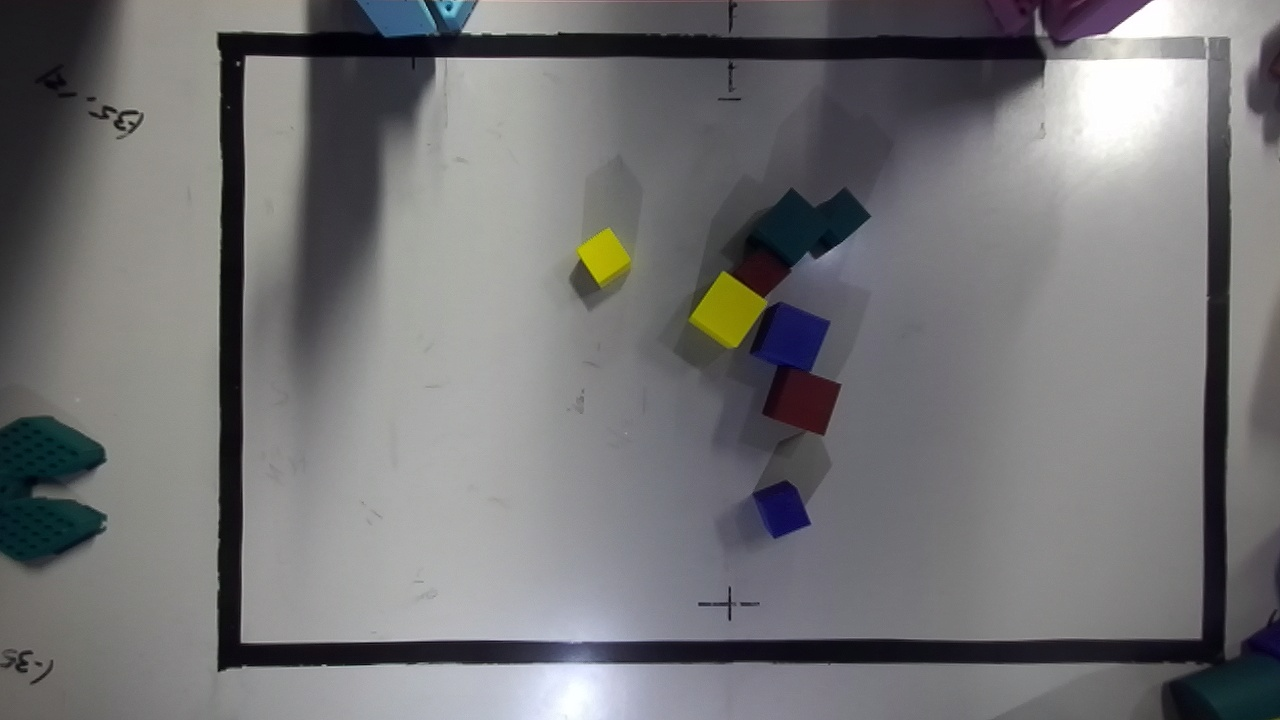cube: (689, 272, 765, 348), (751, 188, 825, 265), (750, 302, 830, 371), (762, 366, 841, 435), (752, 481, 810, 537), (816, 187, 870, 247), (576, 227, 630, 286)
